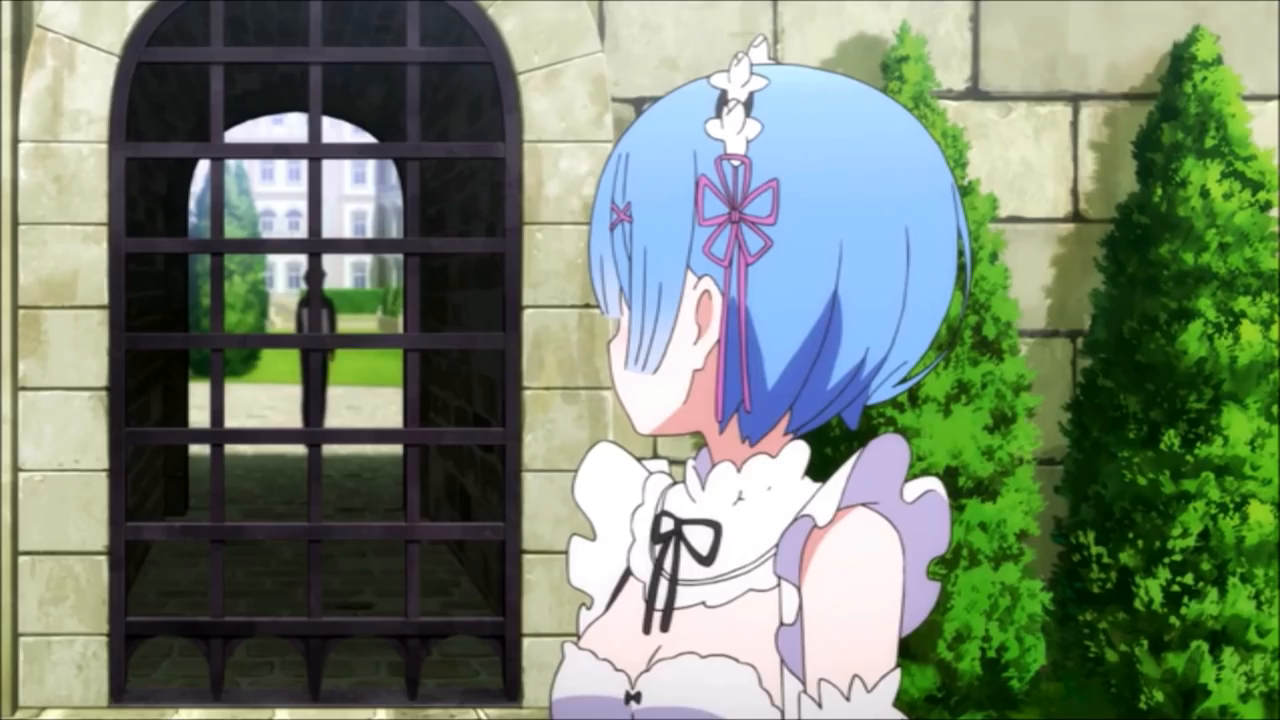REM: (574, 38, 973, 457)
